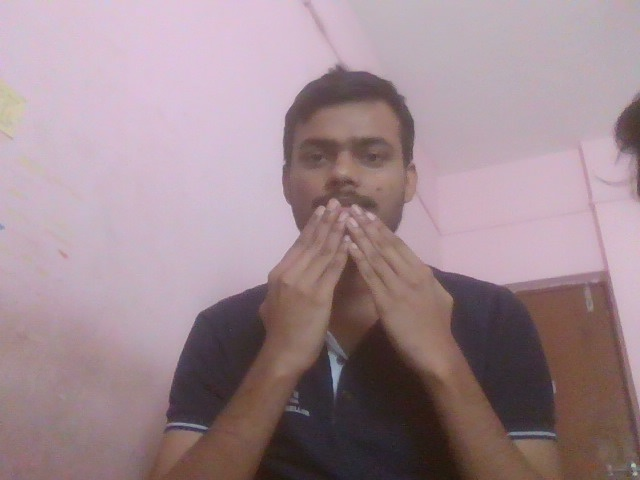ThankYou: (212, 185, 555, 370)
